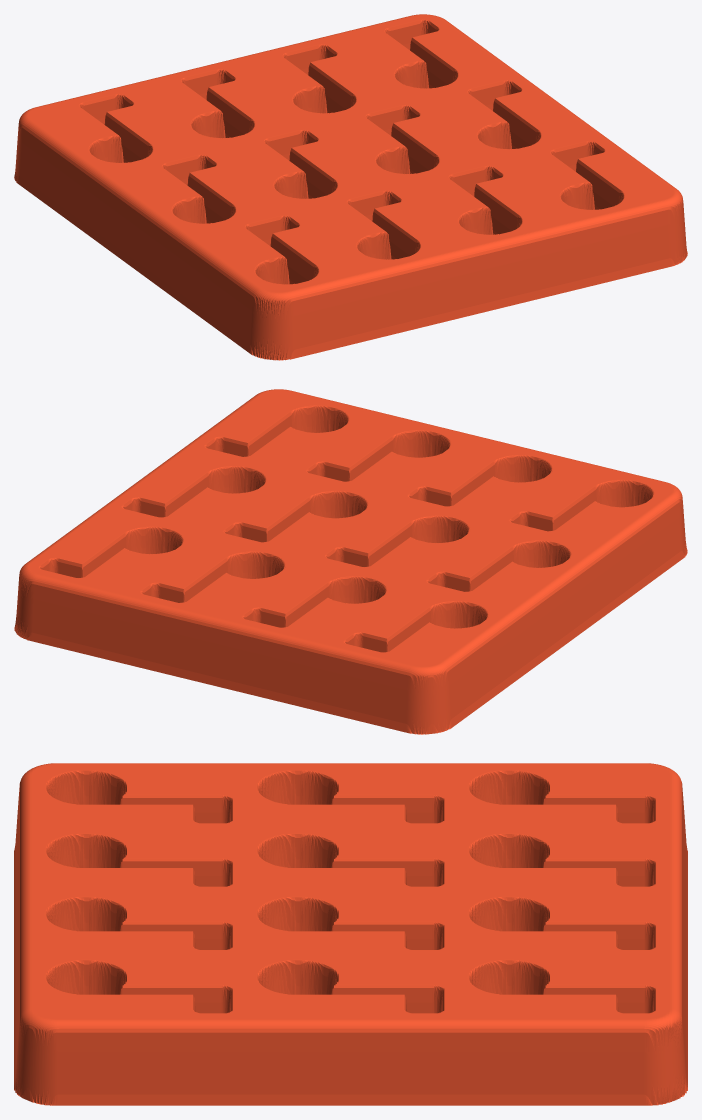
Rendered from mold.glb.
The picture shows the model from 3 angles, top to bottom: view 1: azimuth 30°, elevation 25°; view 2: azimuth 150°, elevation 25°; view 3: azimuth 270°, elevation 25°; orthographic projection. The views are drawn at different scales.
Visible parts, largest first — view 1: geometry_0; view 2: geometry_0; view 3: geometry_0.
Part boxes in pixels (left/top/right/bottom): geometry_0: left=14, top=14, right=687, bottom=360; geometry_0: left=14, top=389, right=687, bottom=734; geometry_0: left=14, top=763, right=687, bottom=1105.
Size of the model in its own units: 0.1336 by 0.0182 by 0.141.
